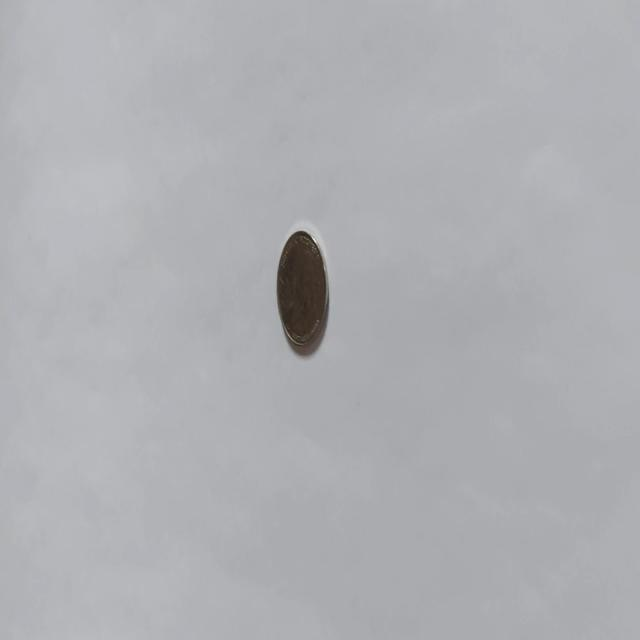seribu rupiah koin: (274, 225, 330, 352)
